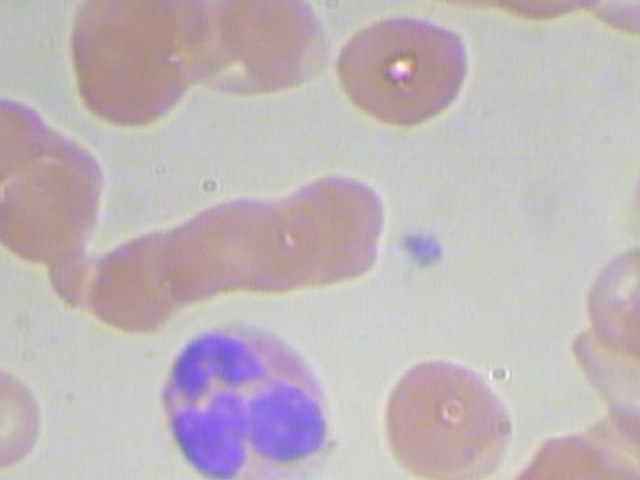Platelets: (393, 228, 454, 274)
RBC: (328, 8, 487, 139), (372, 352, 531, 480), (203, 0, 334, 109), (67, 30, 194, 129), (72, 230, 185, 337), (0, 160, 111, 263), (281, 161, 395, 260), (501, 421, 640, 480), (0, 88, 58, 195), (0, 361, 57, 469), (633, 130, 640, 237), (635, 292, 640, 427)
WBC: (140, 319, 345, 480)
